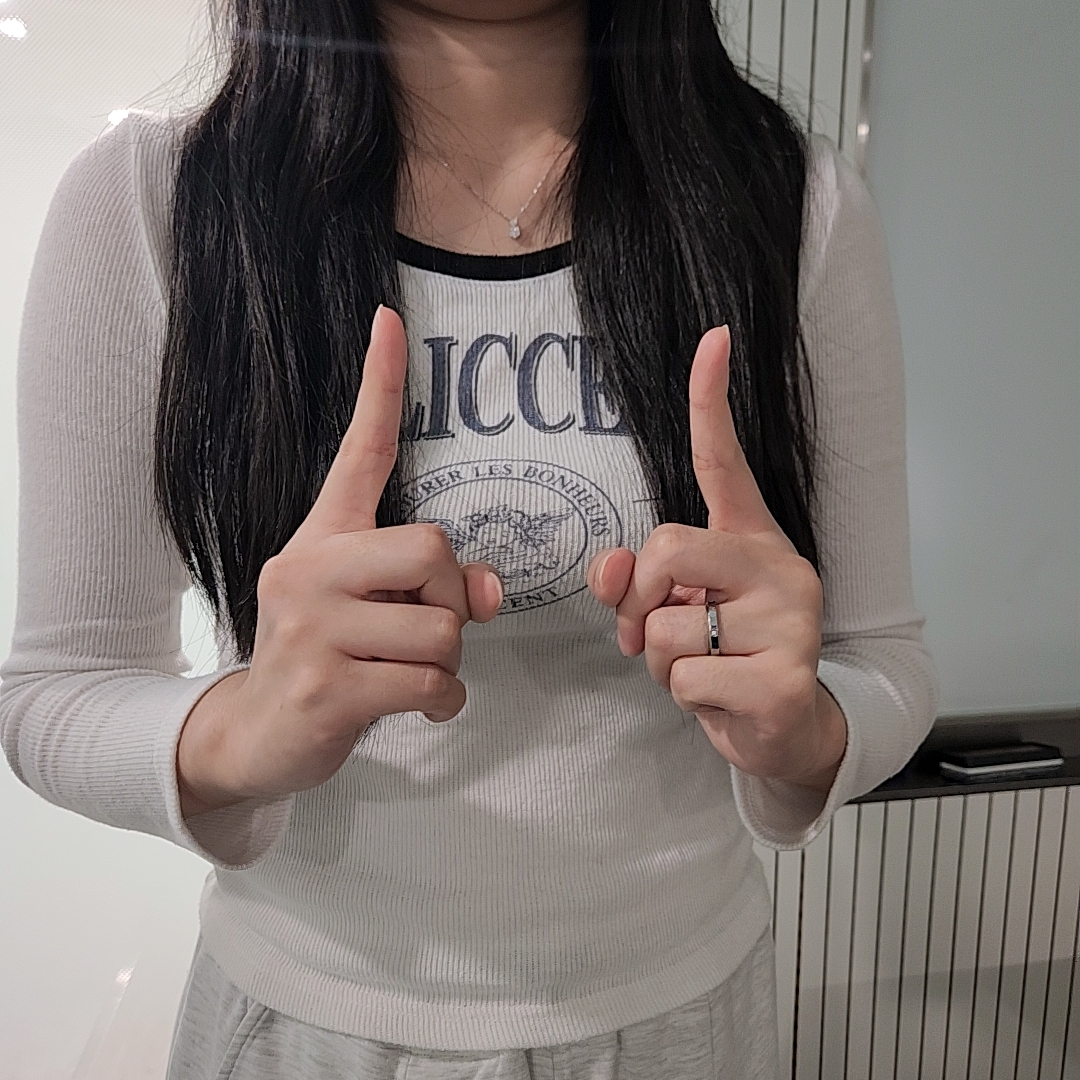meet: (241, 299, 828, 780)
